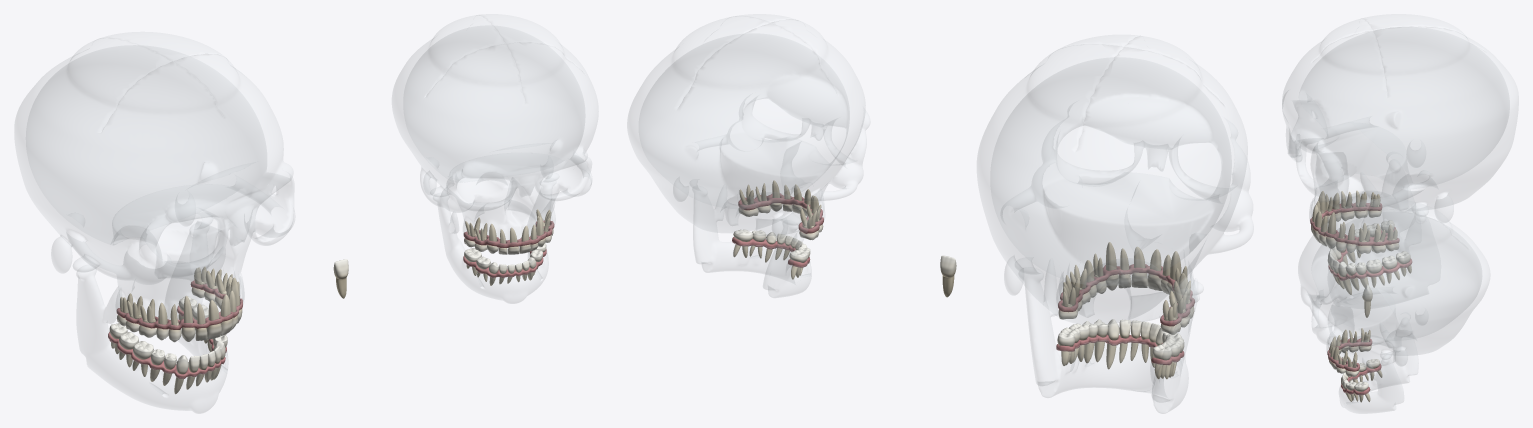
The model's file is odontograma.glb.
3 views of the same model, side by side, from view 1: azimuth 30°, elevation 25°; view 2: azimuth 150°, elevation 25°; view 3: azimuth 270°, elevation 25° (orthographic). The views are drawn at different scales.
Parts seen in each view (by area): view 1: adulto_skull_upper, infantil_skull_upper, adulto_skull_mandible, infantil_skull_mandible, adulto_gingiva_upper, adulto_gingiva_lower, infantil_gingiva_upper; view 2: adulto_skull_upper, infantil_skull_upper, adulto_skull_mandible, infantil_skull_mandible, adulto_gingiva_upper, adulto_gingiva_lower, infantil_gingiva_upper; view 3: adulto_skull_upper, infantil_skull_upper, infantil_skull_mandible, adulto_skull_mandible, adulto_gingiva_upper, adulto_gingiva_lower, infantil_gingiva_upper, infantil_gingiva_lower.
Boxes of the visible parts, x1,y1,x2,y2 form: adulto_skull_upper: (15, 32, 294, 327); infantil_skull_upper: (392, 14, 598, 245); adulto_skull_mandible: (77, 224, 227, 413); infantil_skull_mandible: (433, 179, 555, 303); adulto_gingiva_upper: (116, 280, 242, 329); adulto_gingiva_lower: (108, 305, 226, 378); infantil_gingiva_upper: (463, 220, 554, 247); adulto_skull_upper: (977, 35, 1253, 324); infantil_skull_upper: (627, 14, 869, 238); adulto_skull_mandible: (1024, 268, 1199, 413); infantil_skull_mandible: (693, 194, 811, 297); adulto_gingiva_upper: (1058, 264, 1194, 326); adulto_gingiva_lower: (1056, 335, 1184, 365); infantil_gingiva_upper: (738, 193, 823, 233); adulto_skull_upper: (1282, 14, 1518, 240); infantil_skull_upper: (1298, 199, 1489, 368); infantil_skull_mandible: (1339, 340, 1418, 413); adulto_skull_mandible: (1328, 175, 1421, 297); adulto_gingiva_upper: (1310, 202, 1399, 245); adulto_gingiva_lower: (1328, 227, 1412, 280); infantil_gingiva_upper: (1327, 338, 1372, 371); infantil_gingiva_lower: (1341, 364, 1381, 395).
Bounding box in the file's own units: 0.344 × 0.2068 × 0.1629.
